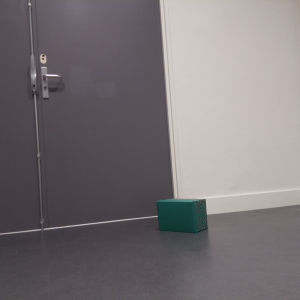small: (154, 196, 211, 238)
